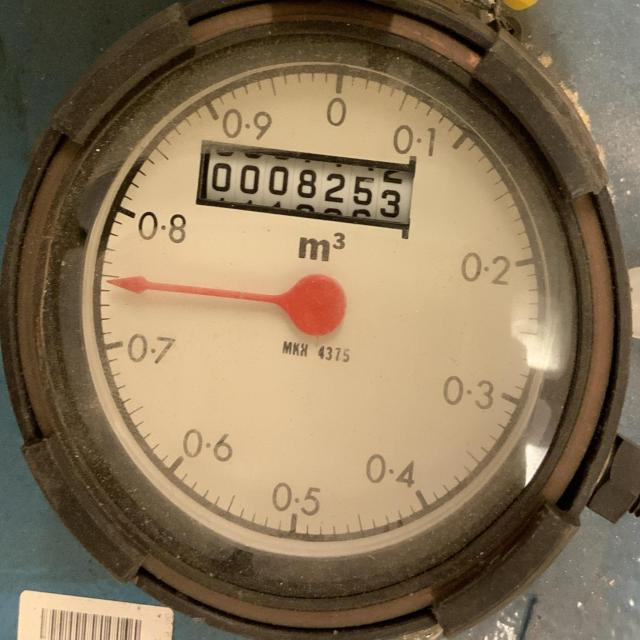gaz_meter: (73, 36, 579, 567)
indication: (199, 140, 419, 231)
